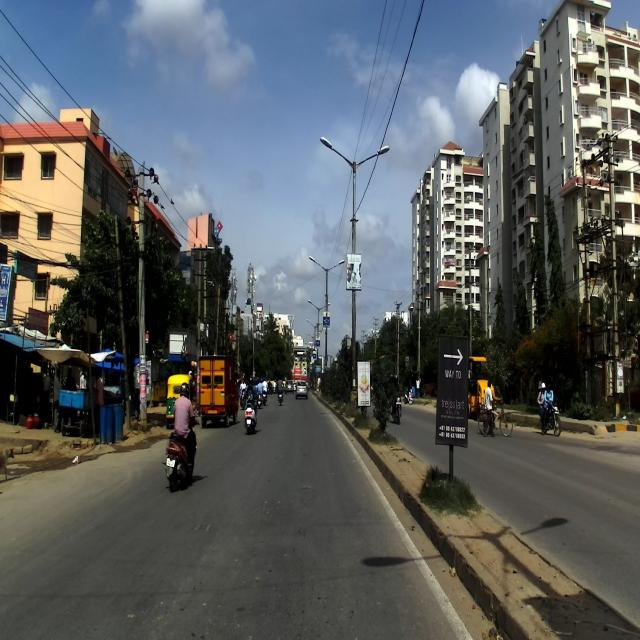scooter: (162, 417, 200, 493)
